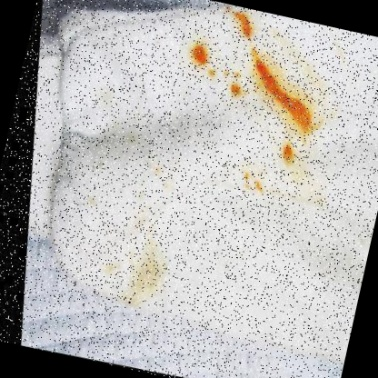kimchi: (230, 47, 336, 139), (114, 203, 180, 314), (123, 132, 189, 190), (180, 32, 226, 83), (216, 6, 263, 44), (229, 167, 272, 200), (268, 137, 308, 169), (223, 69, 248, 100), (82, 193, 101, 211), (101, 260, 121, 277)
